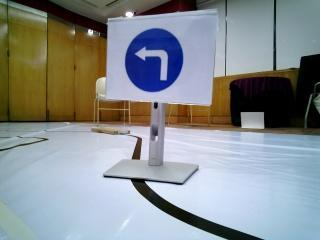left: (115, 16, 205, 102)
